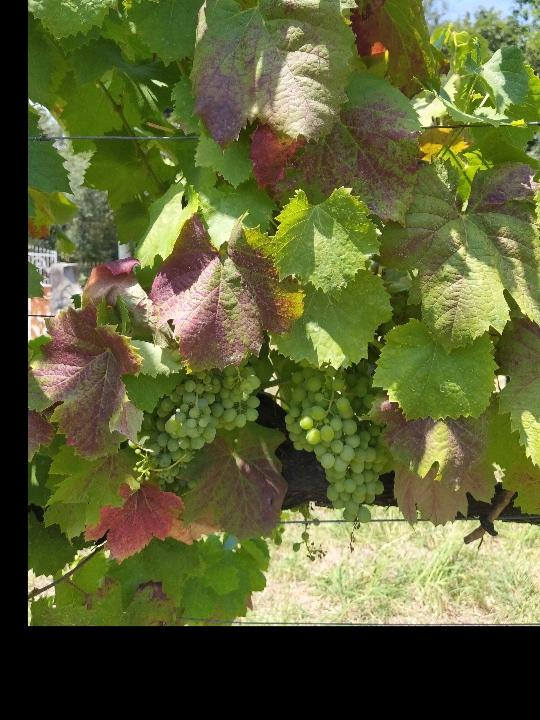grape: (277, 354, 404, 557), (147, 363, 262, 493)
